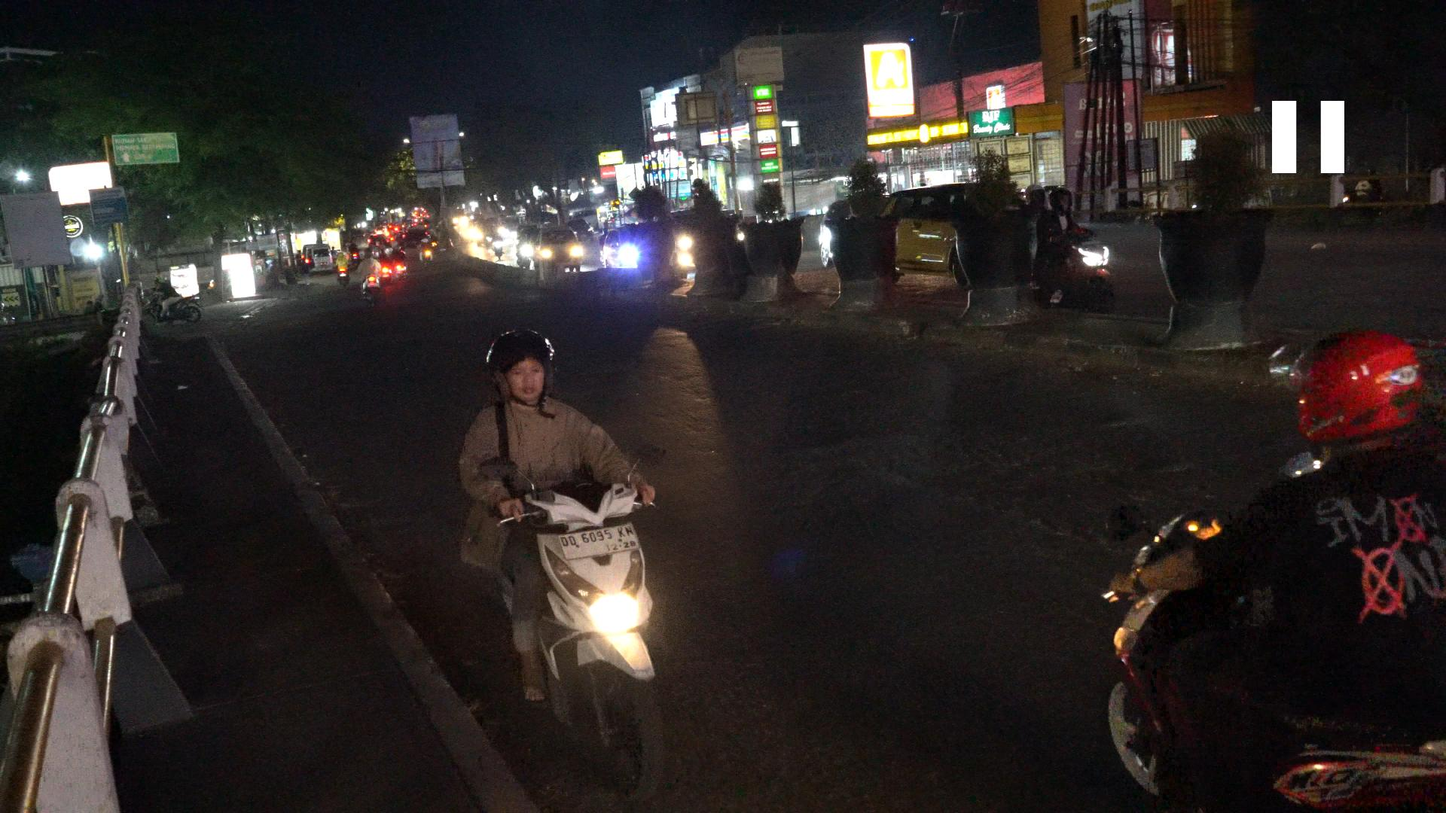number-plate: (557, 517, 641, 557)
